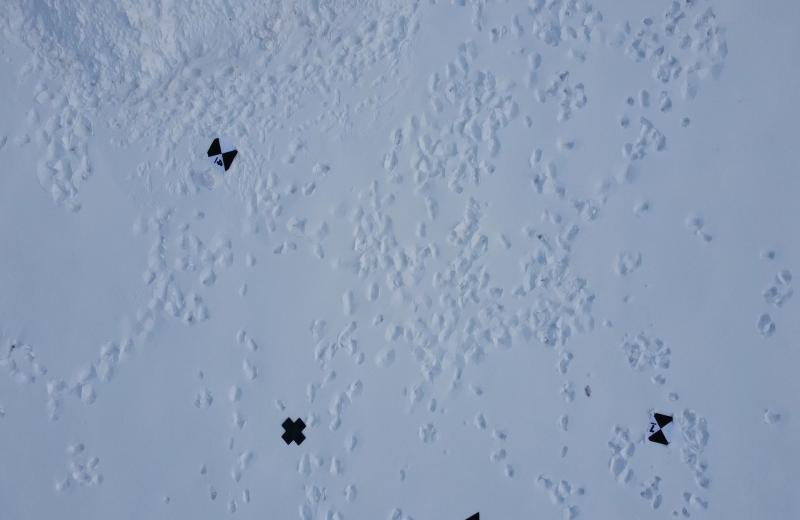Cross: (278, 413, 309, 449)
